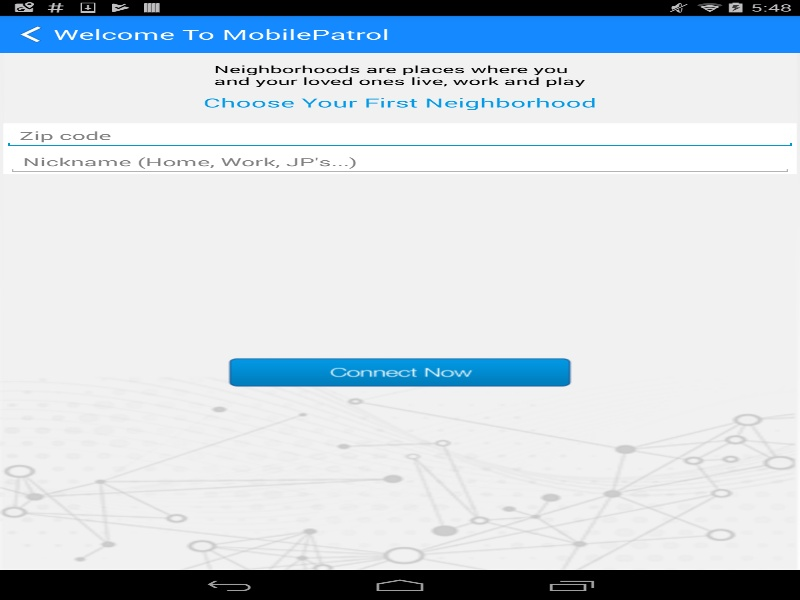Button: (227, 357, 572, 387)
Input: (3, 123, 796, 148), (6, 149, 793, 174)
